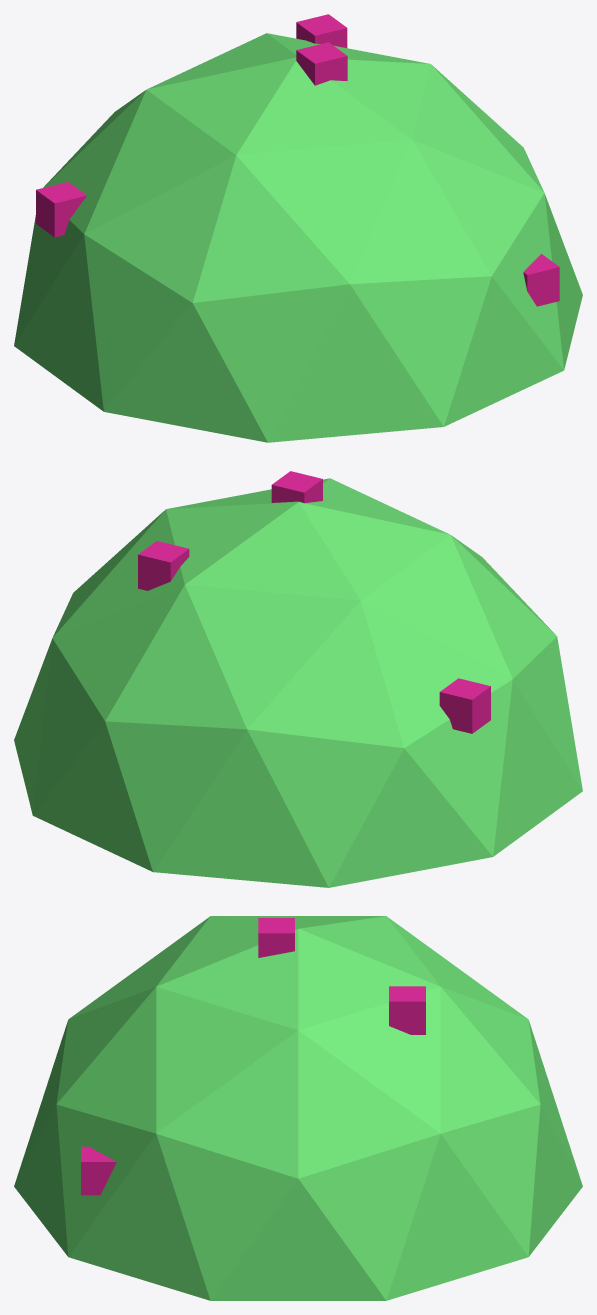
Rendered from Bush_1.fbx.
3 views of the same model, one above another, from view 1: azimuth 30°, elevation 25°; view 2: azimuth 150°, elevation 25°; view 3: azimuth 270°, elevation 25° (orthographic). The views are drawn at different scales.
Visible parts, largest first — view 1: Icosphere, Cube.002, Cube.010, Cube.007, Cube.003; view 2: Icosphere, Cube.002, Cube.003, Cube.010; view 3: Icosphere, Cube.003, Cube.010, Cube.007.
Part boxes in pixels (x1,y1,x2,y2): Icosphere: [14, 33, 582, 442]; Cube.002: [36, 182, 86, 237]; Cube.010: [296, 42, 347, 85]; Cube.007: [523, 254, 559, 306]; Cube.003: [296, 14, 347, 47]; Icosphere: [14, 478, 582, 887]; Cube.002: [439, 678, 490, 733]; Cube.003: [138, 541, 189, 590]; Cube.010: [271, 471, 322, 503]; Icosphere: [14, 916, 582, 1300]; Cube.003: [389, 986, 425, 1034]; Cube.010: [258, 918, 294, 957]; Cube.007: [81, 1146, 116, 1195].
Bounding box in the file's own units: 114 × 62.06 × 120.
